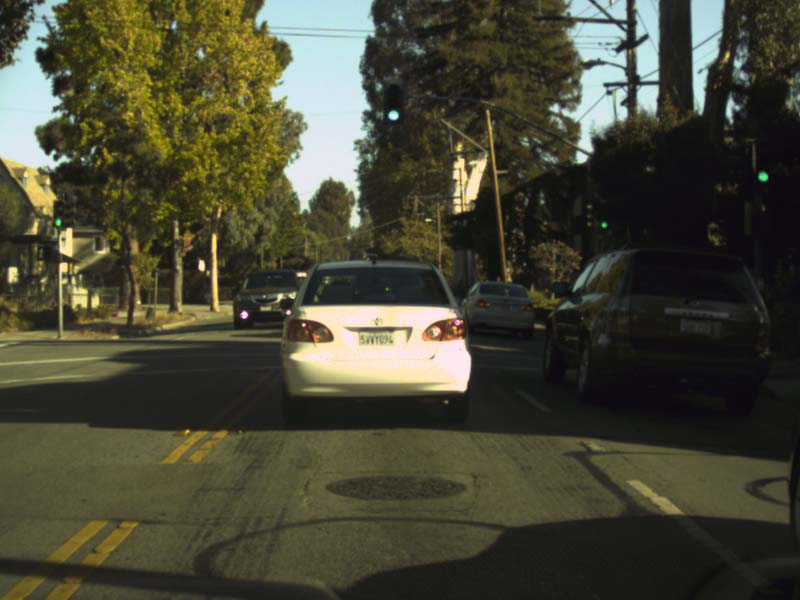Green: (754, 143, 774, 195), (384, 78, 405, 126), (52, 200, 65, 228), (596, 201, 607, 234)
